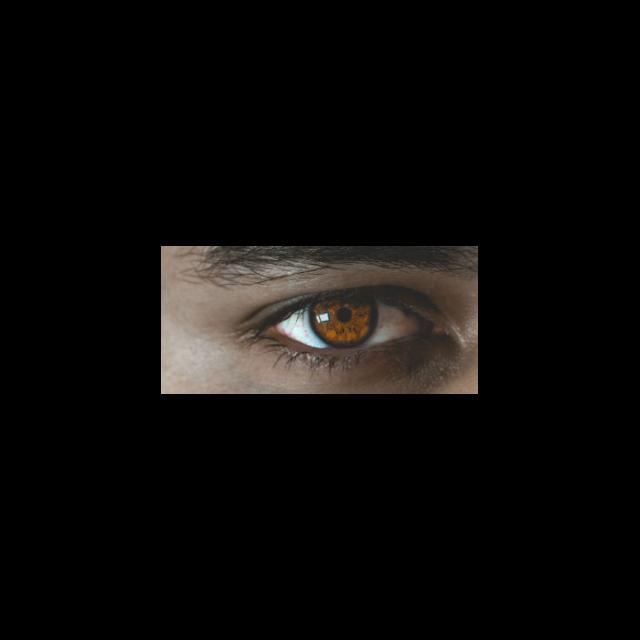eye: (278, 298, 424, 349)
iris: (311, 300, 378, 347)
